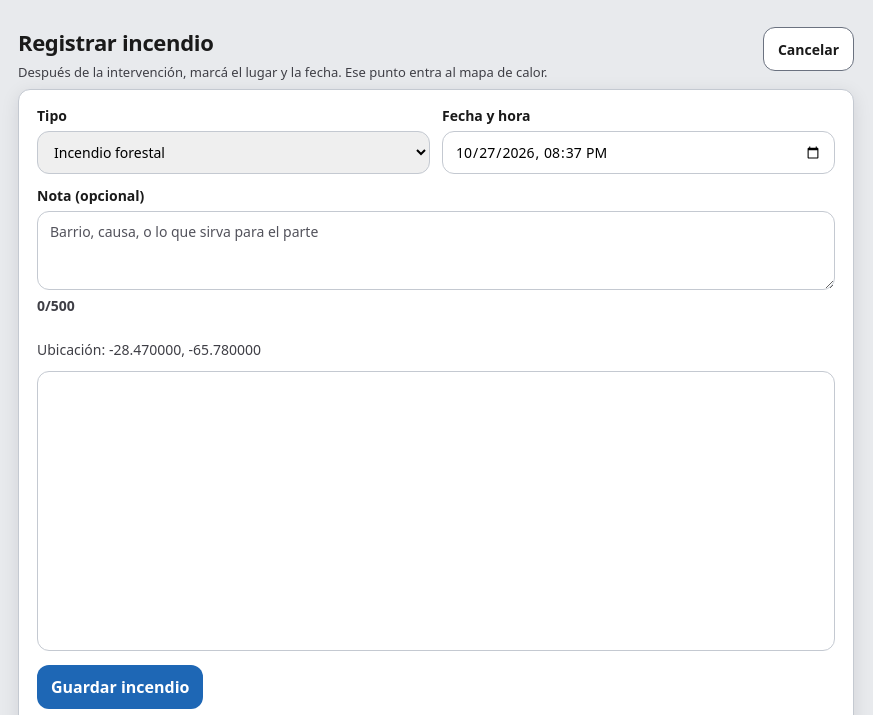
it: AdminCreateFirePage › una fecha futura muestra error
This screenshot has width=873, height=715.
Step 1. Replace the text in the field labelled "Fecha y hora" with "2099-01-01T12:00" → (638, 152), box top-left (442, 131), bottom-right (835, 174)
(page scrolled)
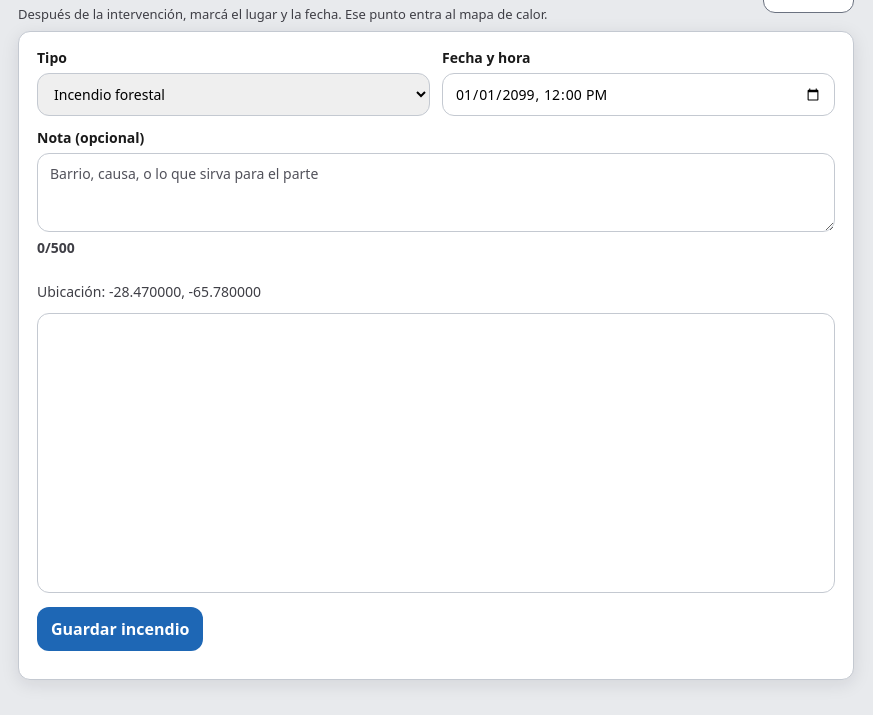
Step 2. Submit the form named "Guardar incendio"
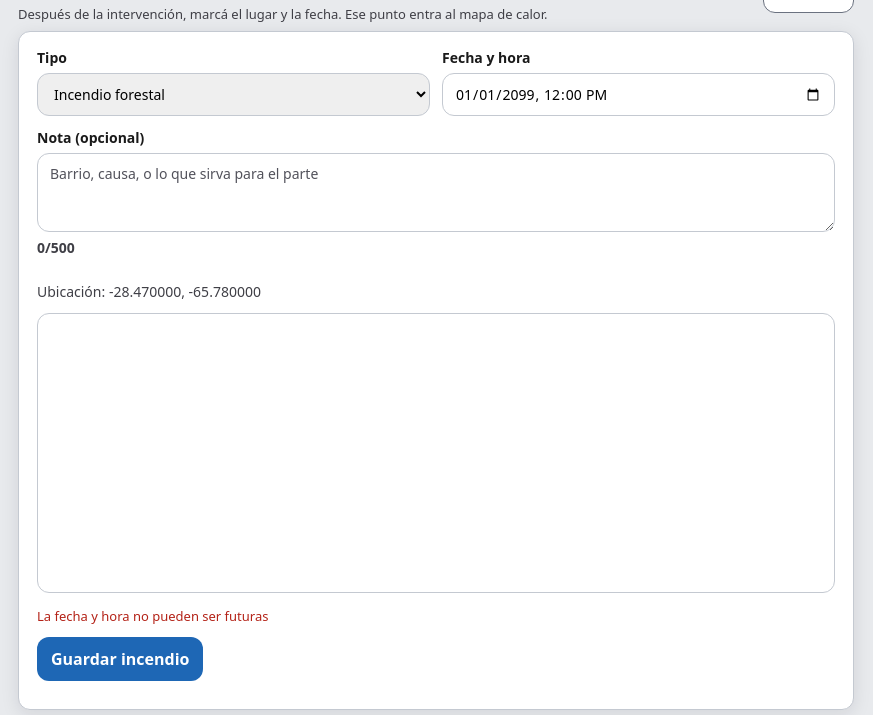
Expected: the message reads "La fecha y hora no pueden ser futuras", top-left (37, 607), bottom-right (268, 625)
